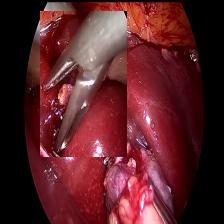Grasper: (39, 10, 126, 156)
